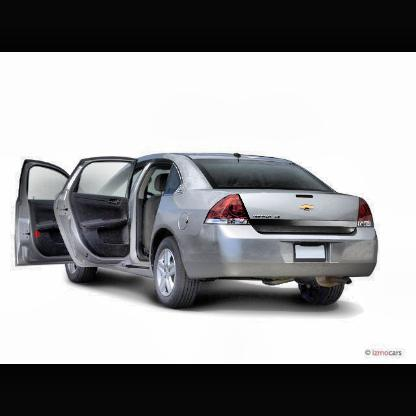Chevrolet Impala Sedan 2007: (12, 156, 383, 313)
